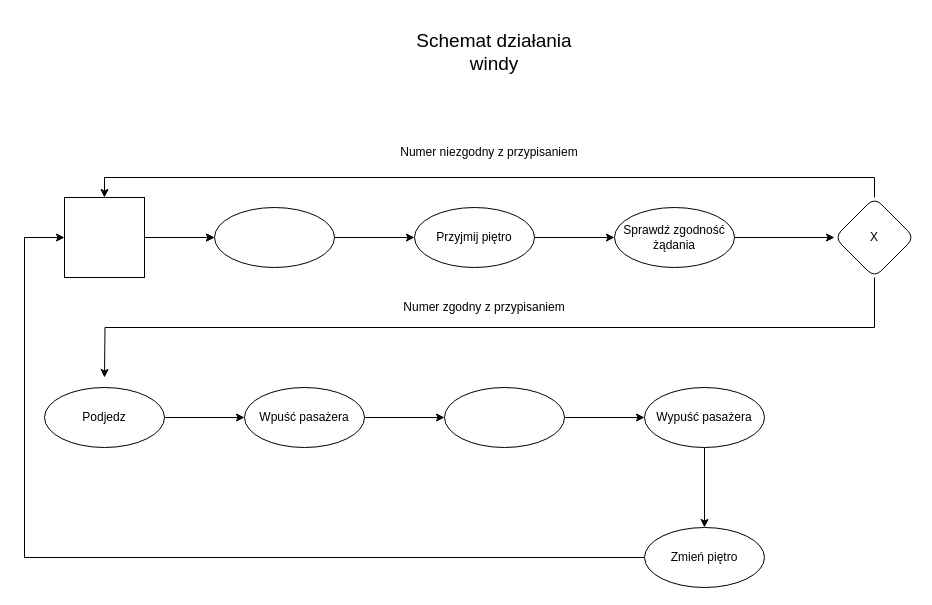
Some shapes in this 932 by 605 pixel diagram are drawn without their labels. Each missing label, with the box of its shape:
Klient: (64, 196, 144, 278)
Oczekuj na wciśniecie numeru piętra: (214, 206, 334, 268)
Podjedź/Zjedź: (444, 386, 564, 448)
